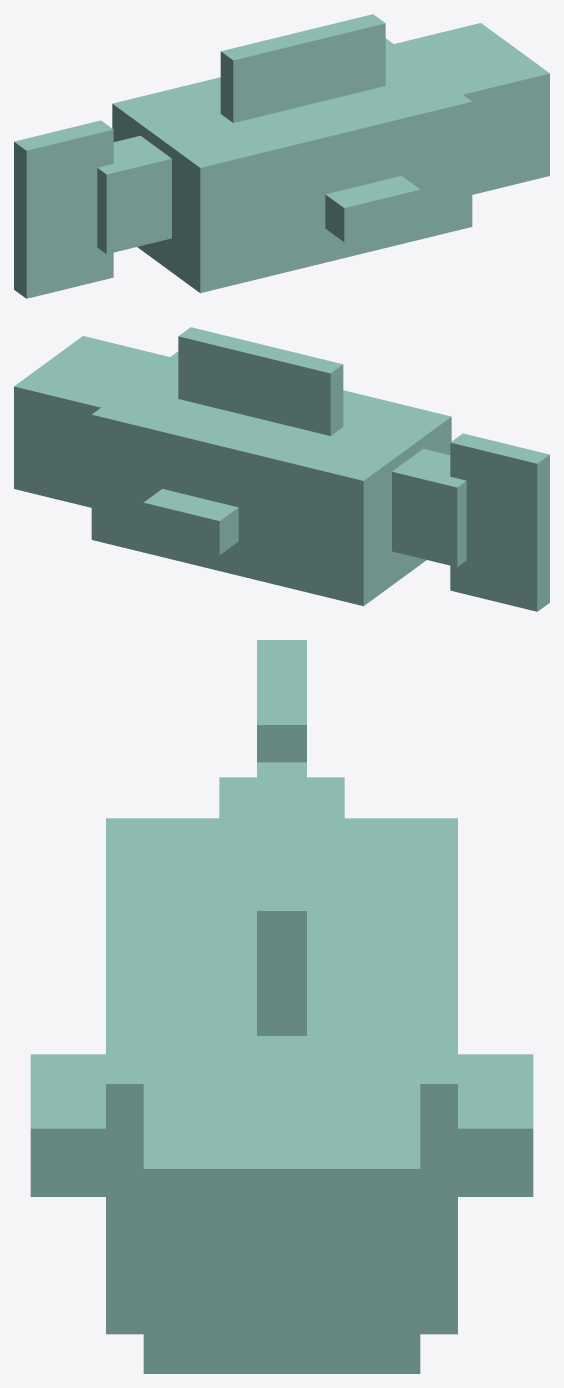
The model's file is fish_opal_tang.glb.
3 renders of one model, top to bottom at view 1: azimuth 30°, elevation 25°; view 2: azimuth 150°, elevation 25°; view 3: azimuth 270°, elevation 25°, orthographic. The views are drawn at different scales.
Visible parts, largest first — view 1: species.opal_tang; view 2: species.opal_tang; view 3: species.opal_tang.
Boxes of the visible parts, x1,y1,x2,y2 form: species.opal_tang: (14, 14, 549, 298); species.opal_tang: (14, 327, 549, 611); species.opal_tang: (30, 640, 533, 1373).
Size of the model in its own units: 0.3 by 0.1088 by 0.1319.
